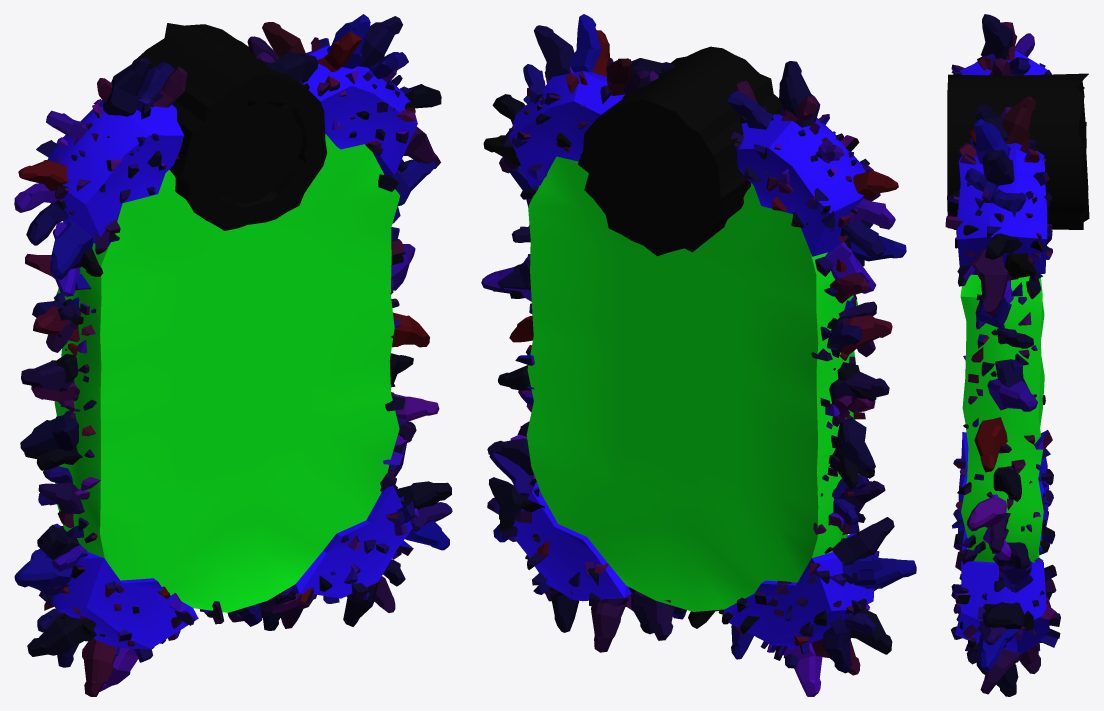
File: tryCard.fbx
3 renders of one model, left to right at view 1: azimuth 30°, elevation 25°; view 2: azimuth 150°, elevation 25°; view 3: azimuth 270°, elevation 25°, orthographic. The views are drawn at different scales.
Parts seen in each view (by area): view 1: Body, Body.1586; view 2: Body, Body.1586; view 3: Body, Body.1586.
Boxes of the visible parts, x1,y1,x2,y2 form: Body: (48, 23, 417, 648); Body.1586: (14, 14, 452, 696); Body: (509, 46, 874, 649); Body.1586: (481, 14, 916, 696); Body: (947, 50, 1089, 655); Body.1586: (945, 14, 1060, 696).
Bounding box in the file's own units: 196 × 272 × 60.57.
